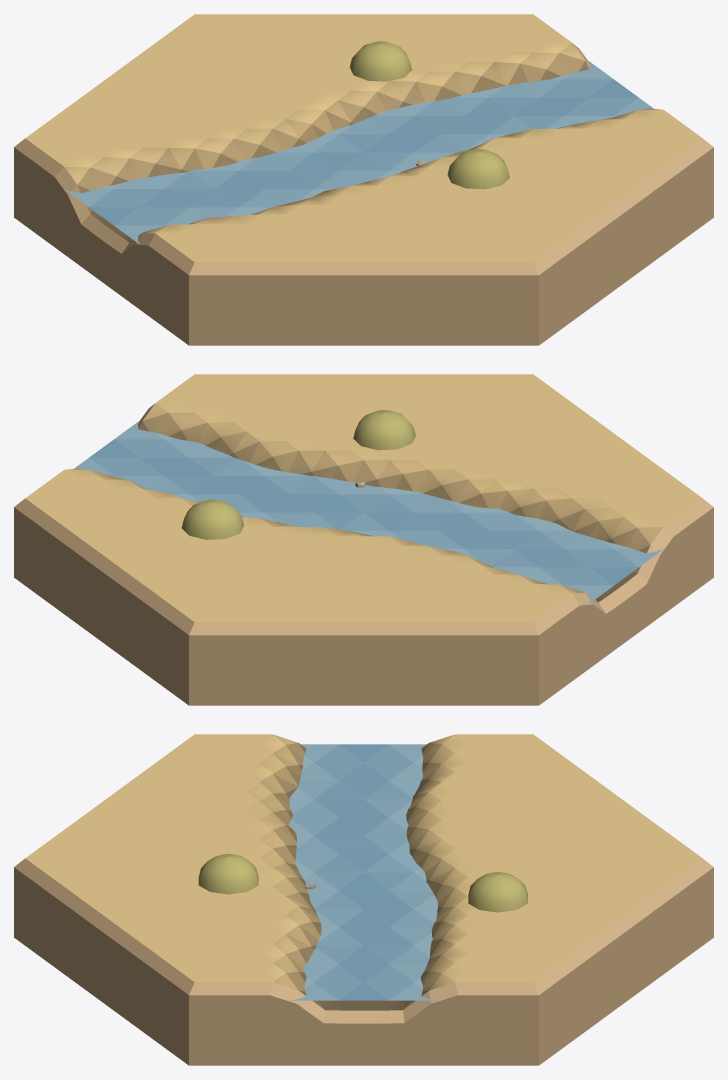
File: river_straight_dry_4.fbx
3 views of the same model, one above another, from view 1: azimuth 30°, elevation 25°; view 2: azimuth 150°, elevation 25°; view 3: azimuth 270°, elevation 25° (orthographic).
Visible parts, largest first — view 1: river_straight_dry_4; view 2: river_straight_dry_4; view 3: river_straight_dry_4.
Part boxes in pixels (x1,y1,x2,y2): river_straight_dry_4: (14,14,713,345); river_straight_dry_4: (14,374,713,705); river_straight_dry_4: (14,734,713,1065).
Bounding box in the file's own units: 1.73 × 0.3265 × 2.
